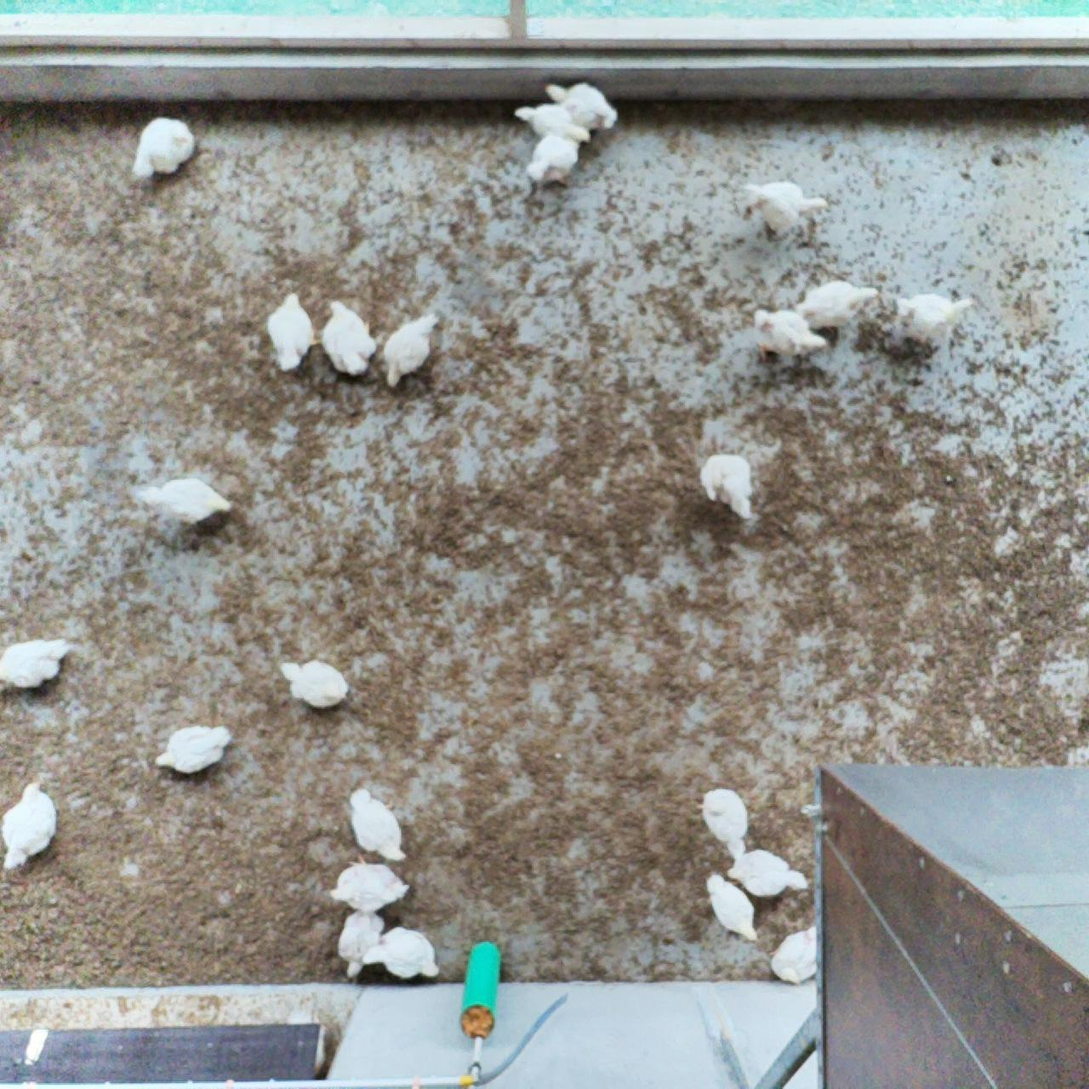chicken: (0, 779, 62, 877), (137, 473, 234, 533), (328, 851, 416, 917), (127, 112, 201, 188), (343, 783, 411, 865), (892, 291, 979, 352), (741, 177, 829, 236), (750, 306, 833, 368), (360, 922, 444, 983), (320, 296, 379, 382), (265, 289, 322, 378), (381, 310, 440, 394), (153, 721, 234, 781), (795, 278, 882, 332), (542, 76, 621, 135), (725, 847, 810, 901), (693, 783, 751, 862), (277, 655, 354, 714), (697, 449, 758, 523), (335, 902, 389, 985), (703, 868, 760, 944), (0, 634, 71, 693), (512, 101, 596, 148), (766, 919, 819, 989), (524, 128, 582, 191)
